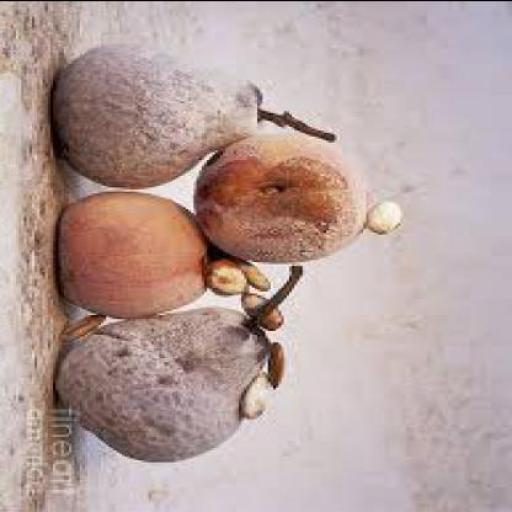biodegradable: (59, 261, 307, 461), (50, 39, 340, 186), (196, 129, 371, 261), (61, 188, 217, 314), (242, 290, 286, 328), (66, 310, 111, 340), (236, 255, 276, 287), (372, 196, 408, 231), (210, 257, 244, 294), (244, 376, 268, 418), (268, 342, 286, 384)
